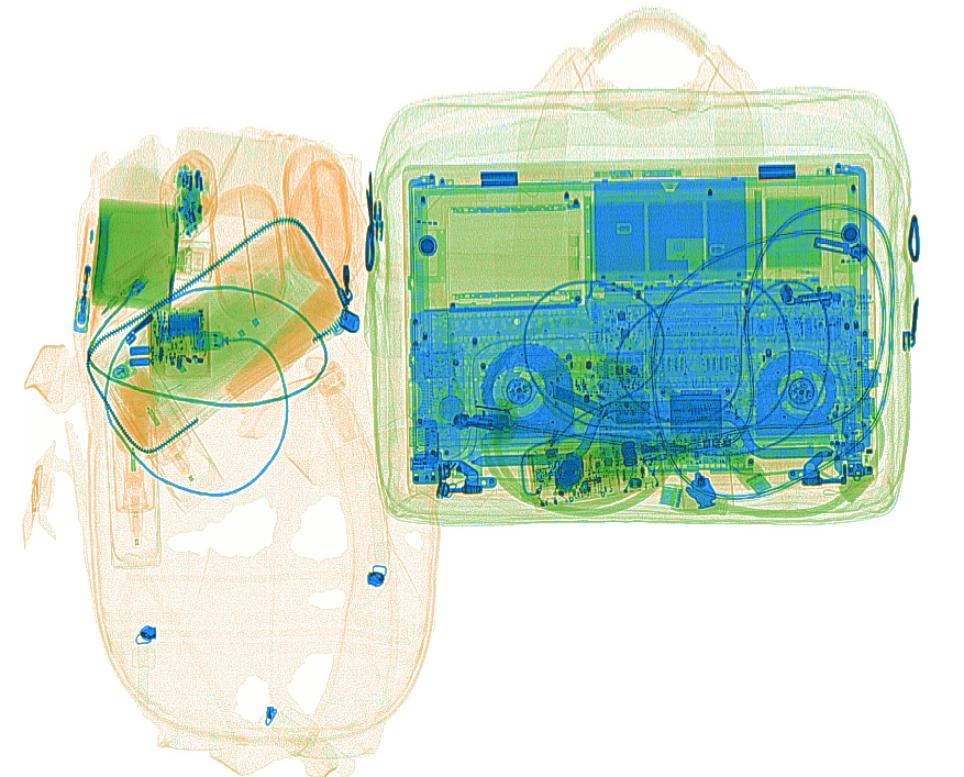lighter: (72, 205, 97, 333)
plasticBottleWithaNozzle: (108, 355, 195, 483), (110, 375, 155, 549)
